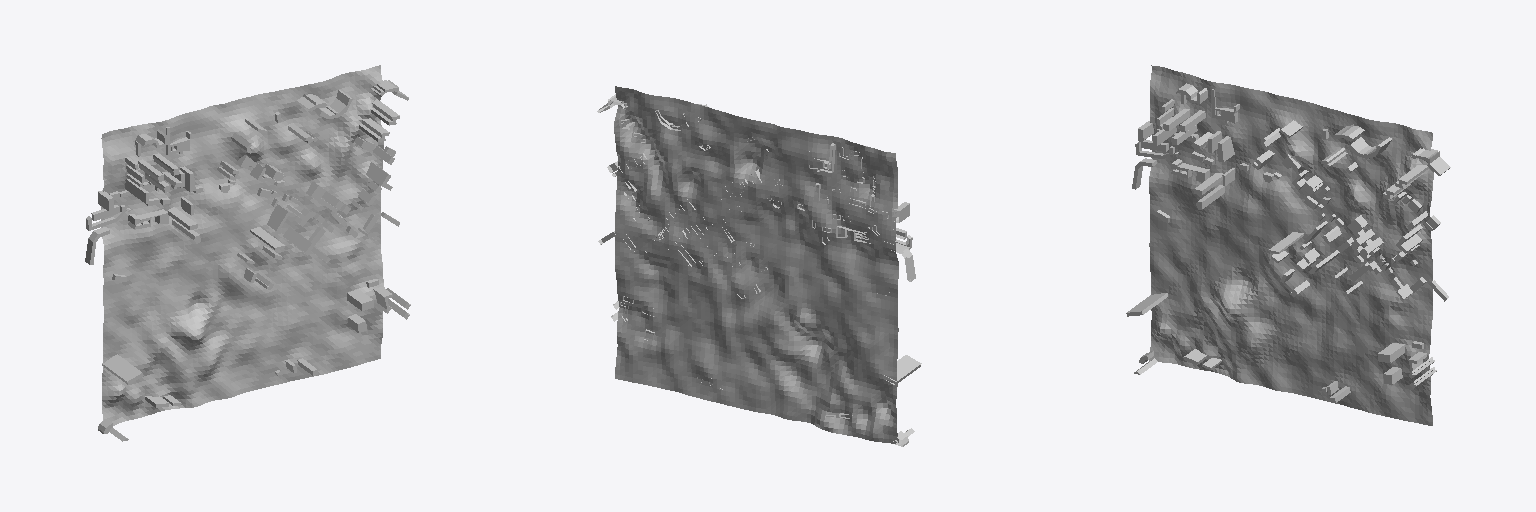
The model's file is terrain.obj.
3 views of the same model, side by side, from view 1: azimuth 30°, elevation 25°; view 2: azimuth 150°, elevation 25°; view 3: azimuth 330°, elevation 25° (orthographic).
Visible parts, largest first — view 1: 25836.16263.15.obj; view 2: 25836.16263.15.obj; view 3: 25836.16263.15.obj.
Part boxes in pixels (left/top/right/bottom): 25836.16263.15.obj: left=85, top=65, right=410, bottom=441; 25836.16263.15.obj: left=597, top=86, right=921, bottom=446; 25836.16263.15.obj: left=1126, top=65, right=1450, bottom=425.
Size of the model in its own units: 2.24 by 2 by 0.3751.